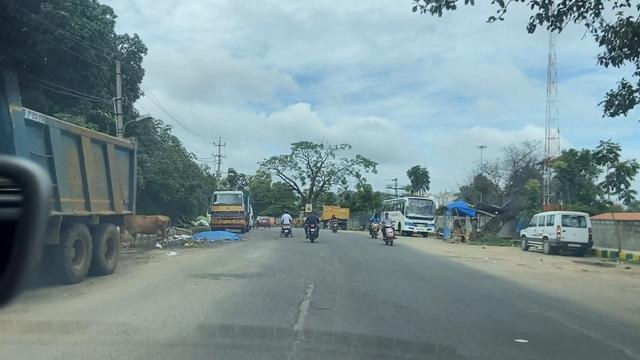HMV: (0, 66, 161, 281), (378, 184, 446, 241), (210, 173, 250, 233), (313, 197, 349, 236)
LMV: (517, 202, 595, 268), (294, 183, 341, 266), (271, 200, 295, 245), (375, 206, 397, 250), (365, 206, 380, 244), (327, 211, 342, 238)
RoadDamages: (289, 263, 320, 349)
